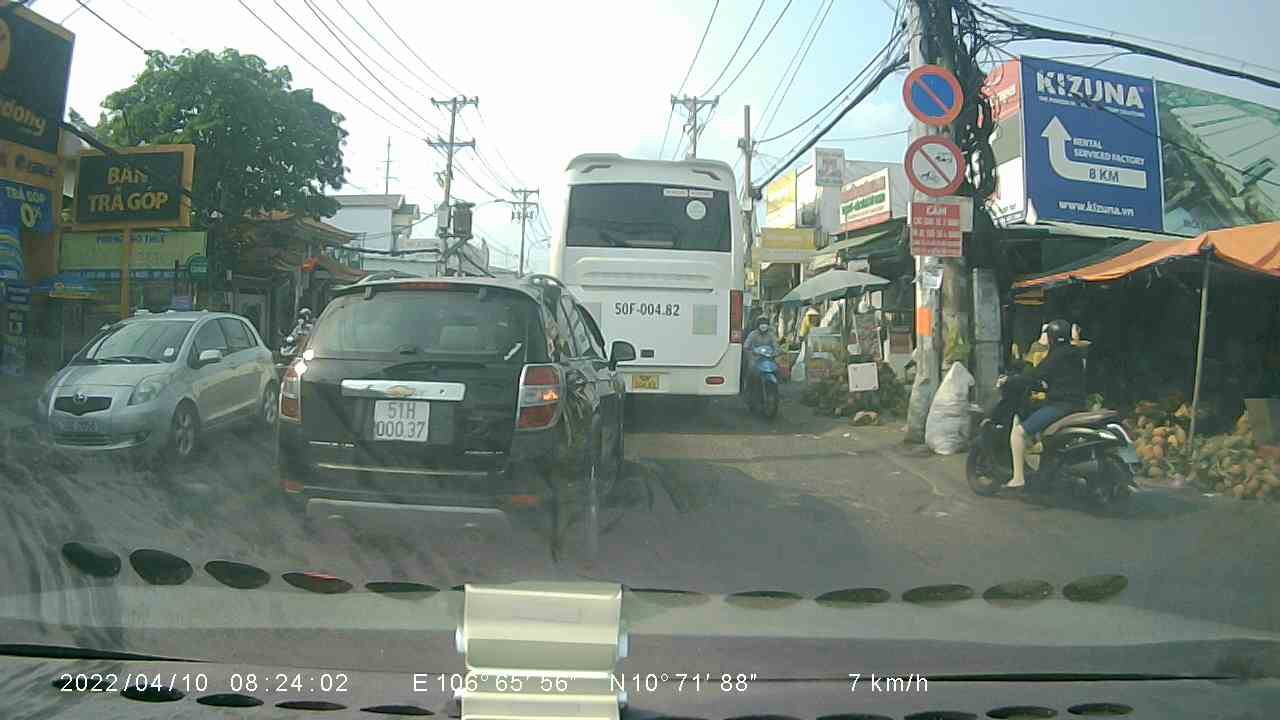Bien khac: (904, 132, 968, 195)
Cam do xe: (898, 58, 962, 132)
